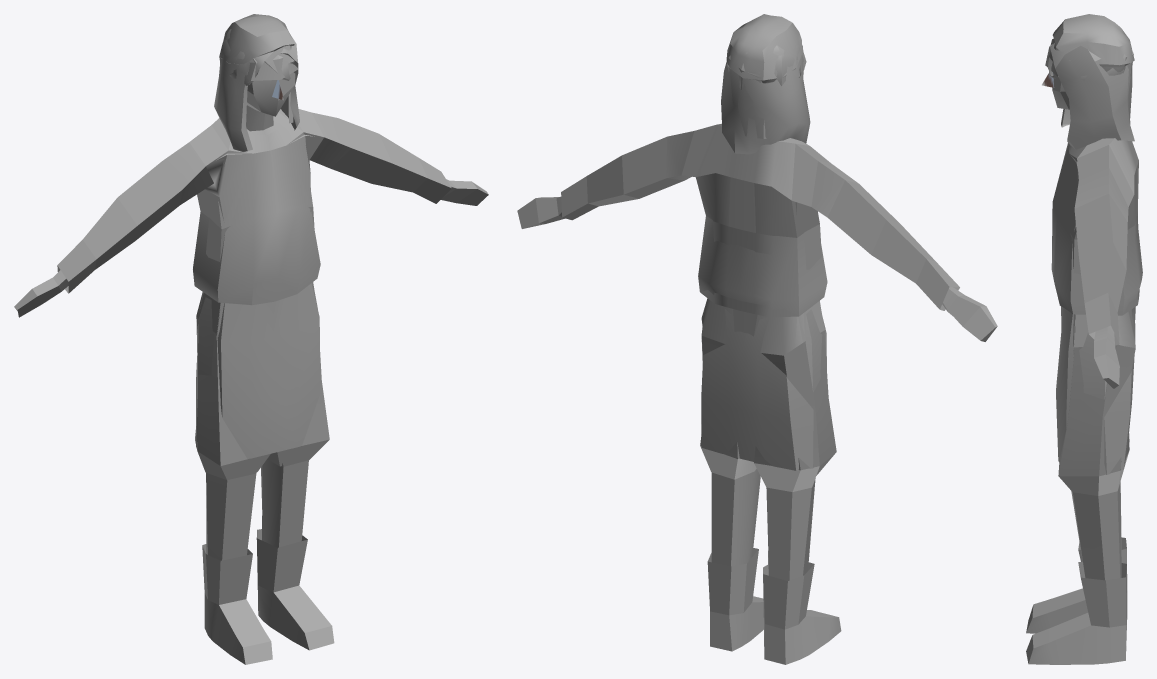
Rendered from _uman_Rig.fbx.
3 renders of one model, left to right at view 1: azimuth 30°, elevation 25°; view 2: azimuth 150°, elevation 25°; view 3: azimuth 270°, elevation 25°, orthographic.
Visible parts, largest first — view 1: Top_Sweater_Hoodie, Pants_Skirt, Shoes_Boots, Pants_Regular, Pants_Lazy, LP_CharacterBase18, Hair_Long, Hair_Undercut, Shoes_Sneaker, Top_Shirt, Hair_Bob, Hair_Short; view 2: Top_Sweater_Hoodie, Pants_Skirt, Shoes_Boots, Pants_Lazy, Pants_Regular, Top_Shirt, Hair_Long, Hair_Undercut, LP_CharacterBase18, Hair_Bob; view 3: Top_Sweater_Hoodie, Shoes_Boots, Pants_Lazy, Hair_Long, Pants_Skirt, Pants_Regular, Hair_Undercut, LP_CharacterBase18, Shoes_Sneaker, Top_Shirt, Hair_Short, Hair_Bob.
Part boxes in pixels (x1,y1,x2,y2): Top_Sweater_Hoodie: [57, 109, 451, 304]; Pants_Skirt: [196, 283, 320, 458]; Shoes_Boots: [202, 529, 322, 654]; Pants_Regular: [196, 282, 314, 560]; Pants_Lazy: [195, 292, 329, 479]; LP_CharacterBase18: [14, 72, 488, 317]; Hair_Long: [214, 29, 299, 151]; Hair_Undercut: [220, 14, 294, 64]; Shoes_Sneaker: [230, 615, 334, 664]; Top_Shirt: [198, 113, 316, 305]; Hair_Bob: [244, 55, 297, 123]; Hair_Short: [219, 38, 294, 85]; Top_Sweater_Hoodie: [561, 123, 959, 315]; Pants_Skirt: [701, 309, 826, 470]; Shoes_Boots: [707, 548, 841, 664]; Pants_Lazy: [700, 299, 836, 491]; Pants_Regular: [701, 299, 815, 580]; Top_Shirt: [700, 173, 821, 317]; Hair_Long: [721, 45, 810, 154]; Hair_Undercut: [726, 14, 802, 83]; LP_CharacterBase18: [517, 196, 997, 341]; Hair_Bob: [738, 48, 806, 138]; Top_Sweater_Hoodie: [1051, 138, 1142, 345]; Shoes_Boots: [1026, 537, 1127, 664]; Pants_Lazy: [1058, 307, 1135, 495]; Hair_Long: [1050, 43, 1134, 149]; Pants_Skirt: [1056, 306, 1135, 474]; Pants_Regular: [1071, 315, 1123, 580]; Hair_Undercut: [1052, 14, 1134, 72]; LP_CharacterBase18: [1042, 72, 1119, 388]; Shoes_Sneaker: [1026, 599, 1056, 664]; Top_Shirt: [1061, 155, 1139, 315]; Hair_Short: [1047, 37, 1133, 80]; Hair_Bob: [1045, 44, 1132, 119].
Bounding box in the file's own units: 1.31 × 1.62 × 0.2758.
Materials: 3 (1 with a texture image).
